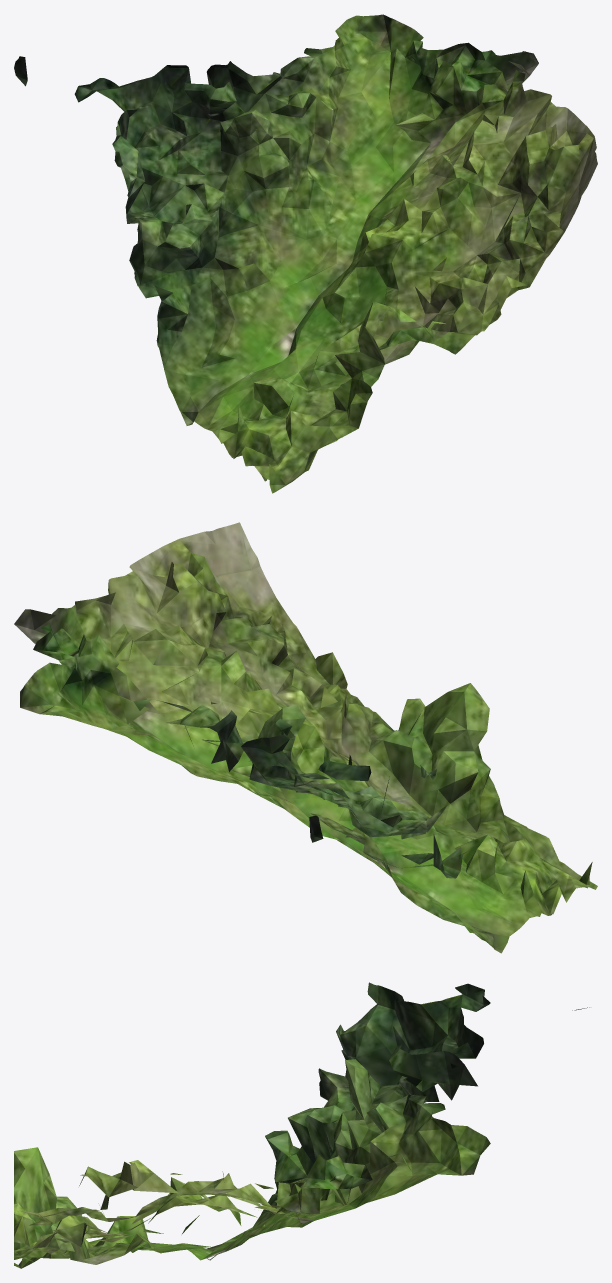
The picture shows the model from 3 angles, top to bottom: view 1: azimuth 30°, elevation 25°; view 2: azimuth 150°, elevation 25°; view 3: azimuth 270°, elevation 25°; orthographic projection. The views are drawn at different scales.
Bounding box in the file's own units: 38.18 × 23.19 × 43.37.
2 materials, 2 textured.
